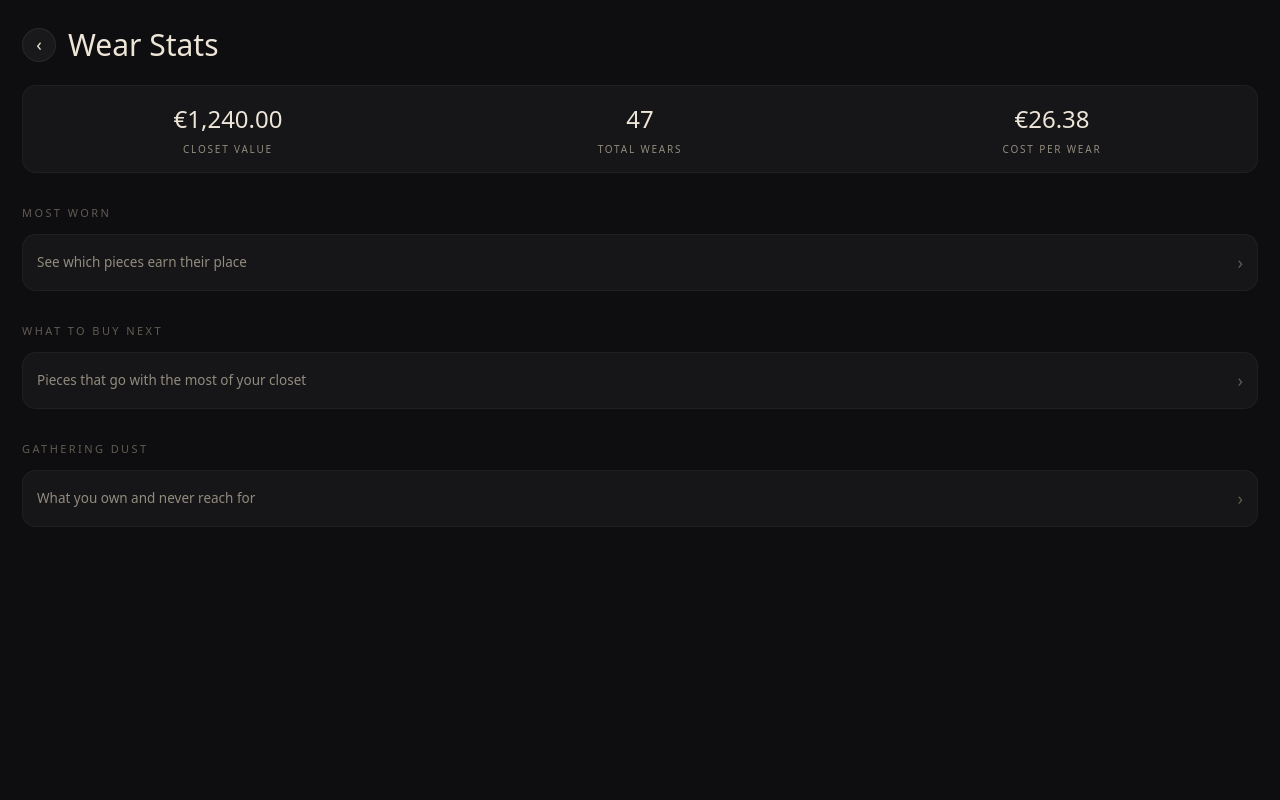
Test: tapping a locked section opens the upgrade sheet, not a dead end
Click the button with aria-label "what to buy next" at (172, 380), box [22,352,1258,409]
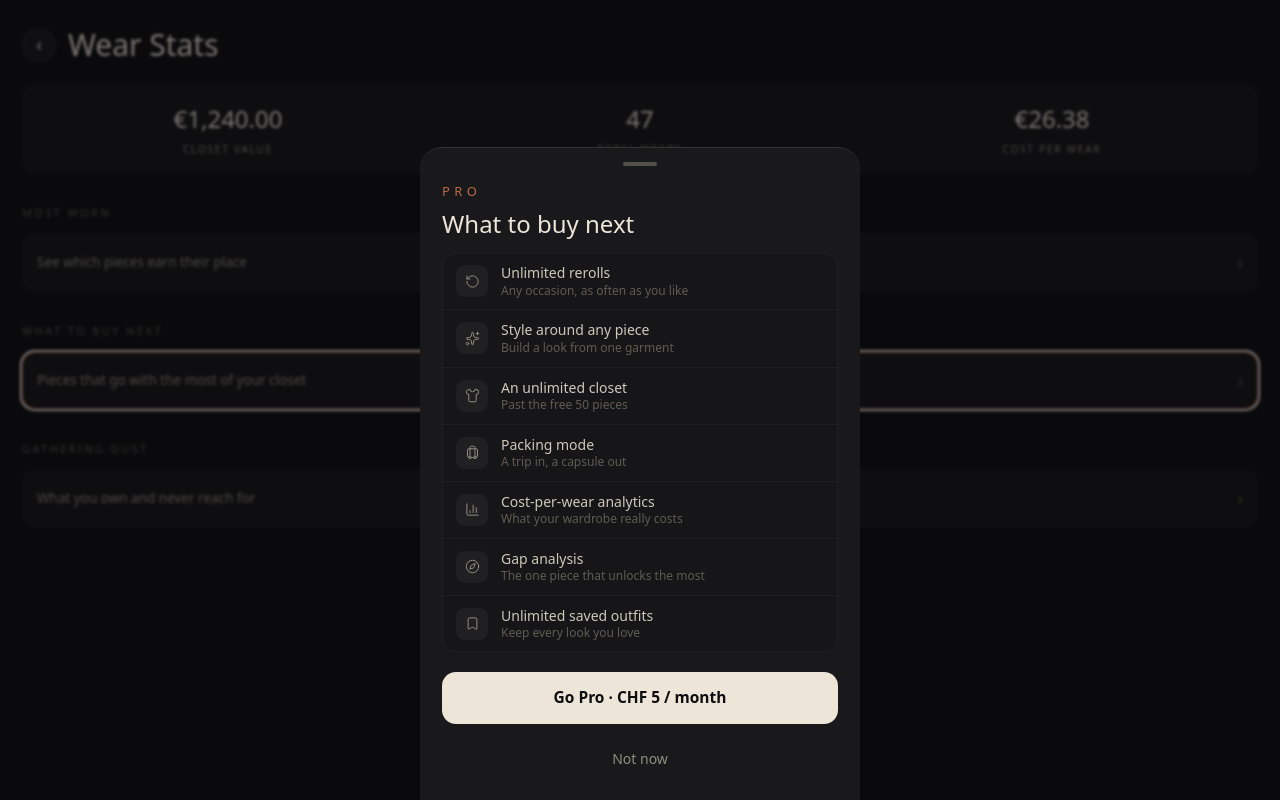
Check: the dialog is shown, box [420,147,860,799]
